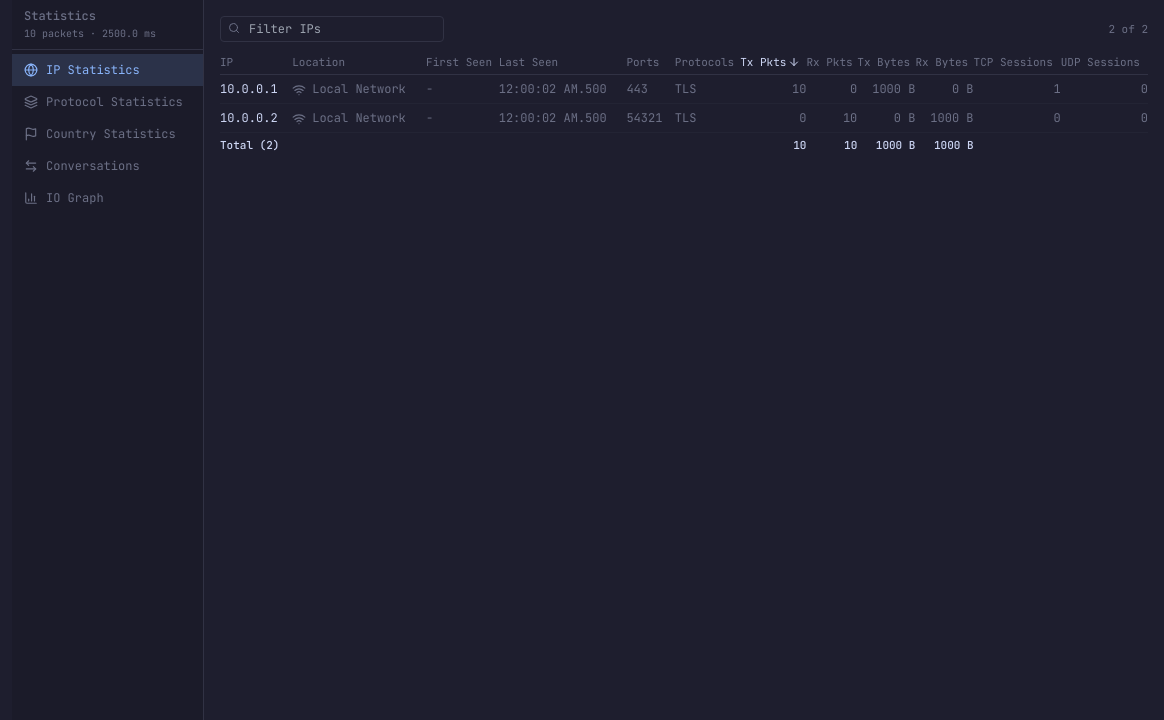
Test: StatsTabs › shows no countries message when country_stats is empty
Click the button "Country Statistics".
click(108, 134)  # box [12, 118, 203, 150]
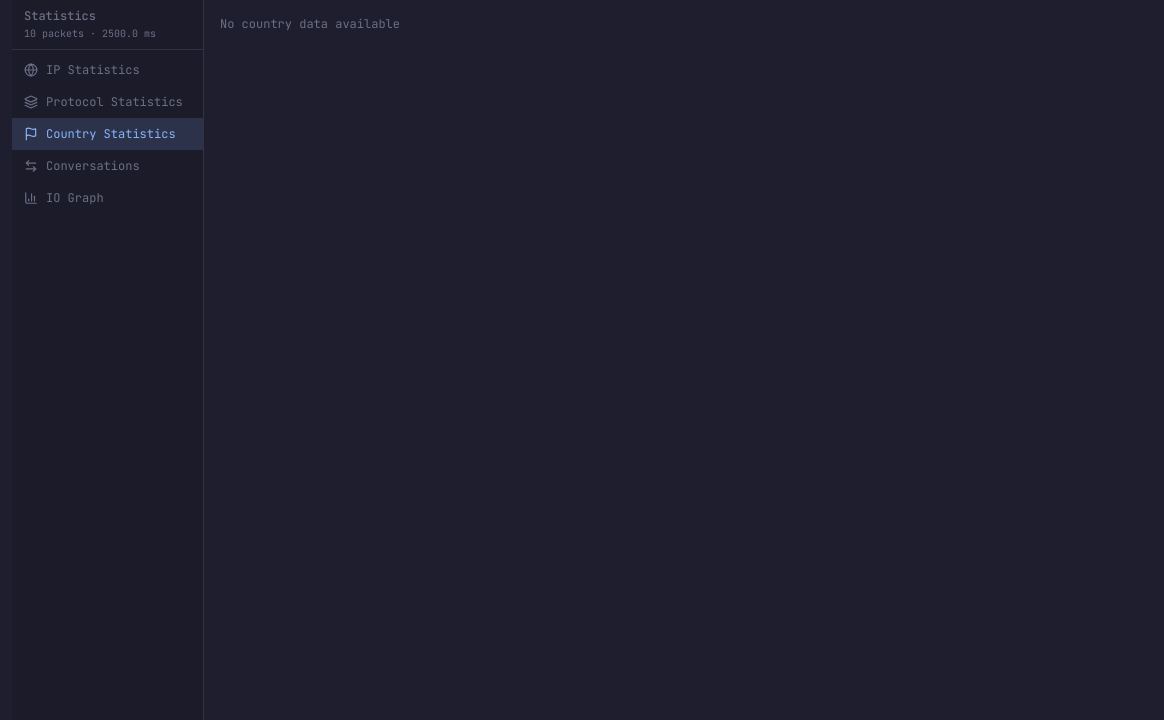
Expected: the text "No country data available" is shown, [220, 16, 400, 32]
